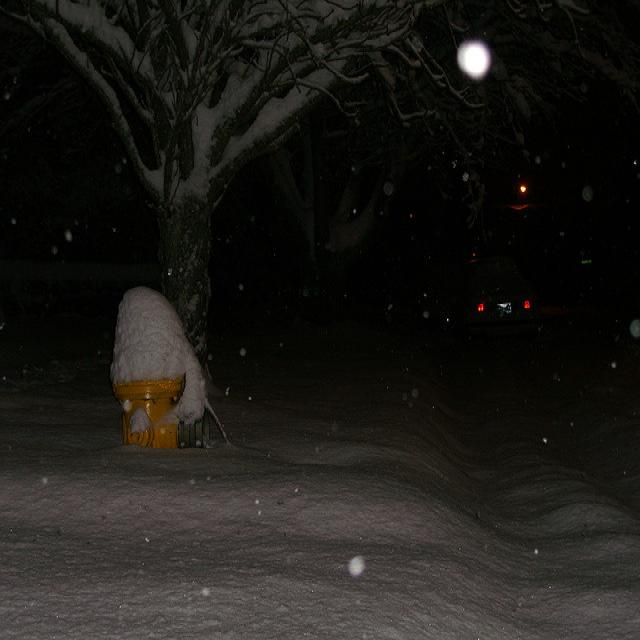Vehicle: (429, 255, 544, 344)
